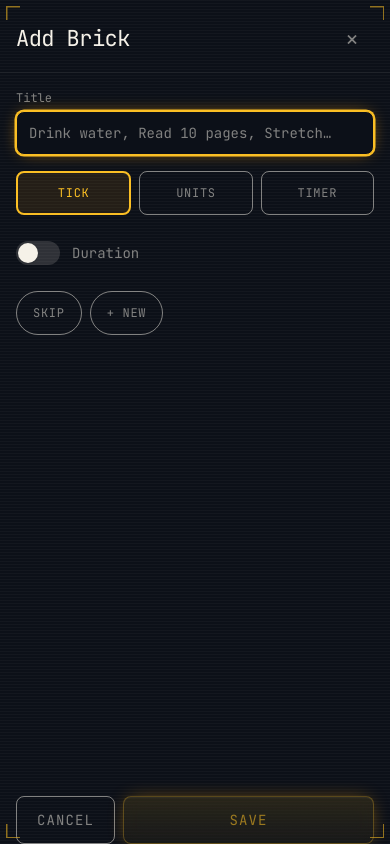
Test: C-m4e-004: Toggle OFF hides time fields; Save produces hasDuration:false › toggle OFF removes Start/End/Recurrence from DOM; haptics.light called
What coordinates should you click on to do the following:
click the switch named "duration"
I would click on:
 (38, 253)
Its box is [16,231,60,275].
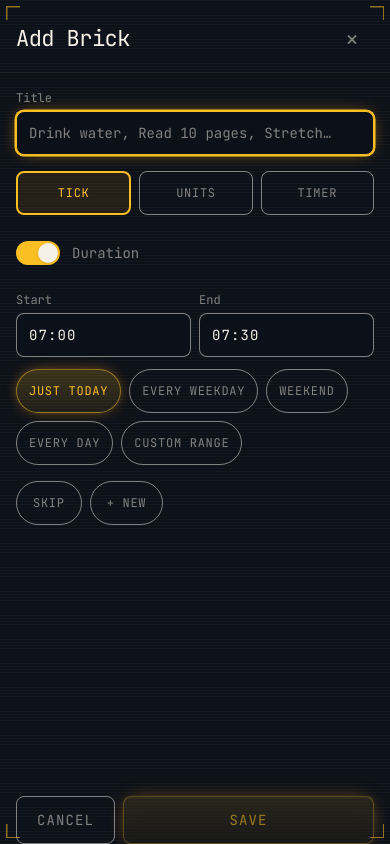
What coordinates should you click on to do the following:
click the switch named "duration"
I would click on:
 (38, 253)
Its box is [16,231,60,275].
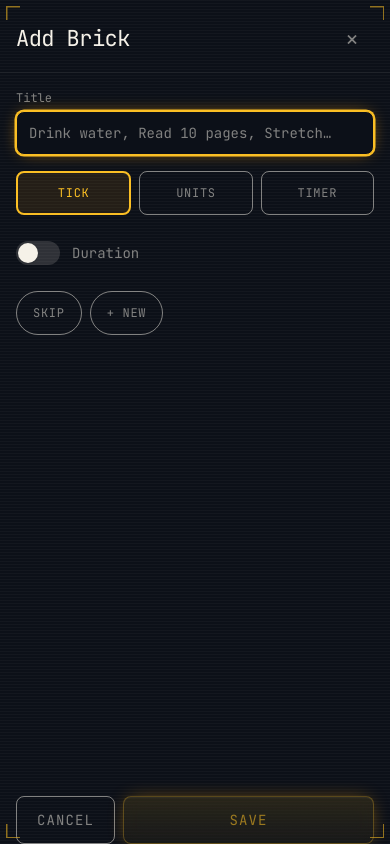
Expected: the label labelled "Start" is gone
Expected: the label labelled "End" is gone
